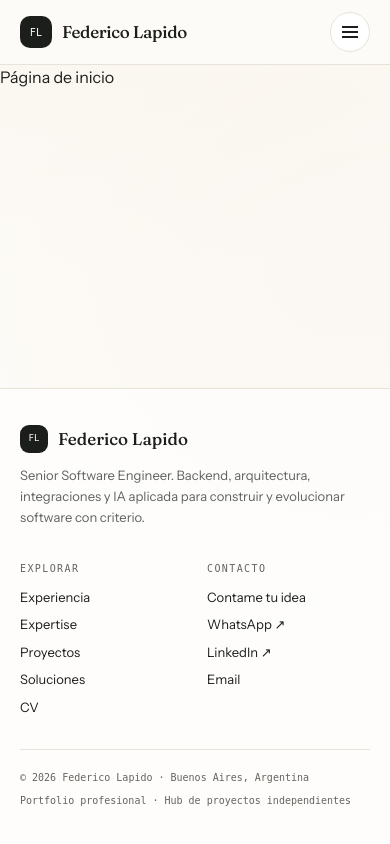
Test case: mobile navigation exposes core destinations and closes after navigation
Click the button named "Abrir menú".
click(350, 32)  # box x1=330 y1=12 x2=370 y2=52
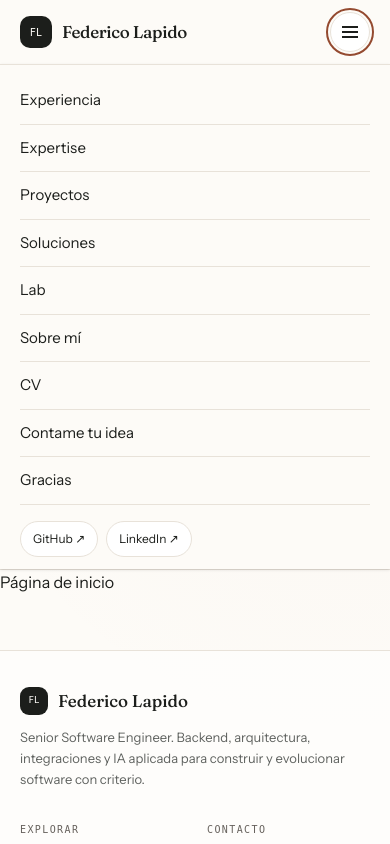
Click the link "Proyectos".
click(55, 194)  # box x1=20 y1=172 x2=370 y2=220
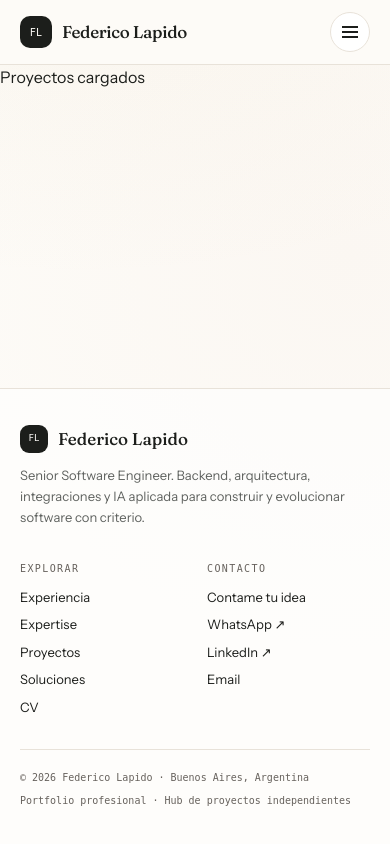
Expected: the text "Proyectos cargados" is shown, x1=0 y1=67 x2=145 y2=87
